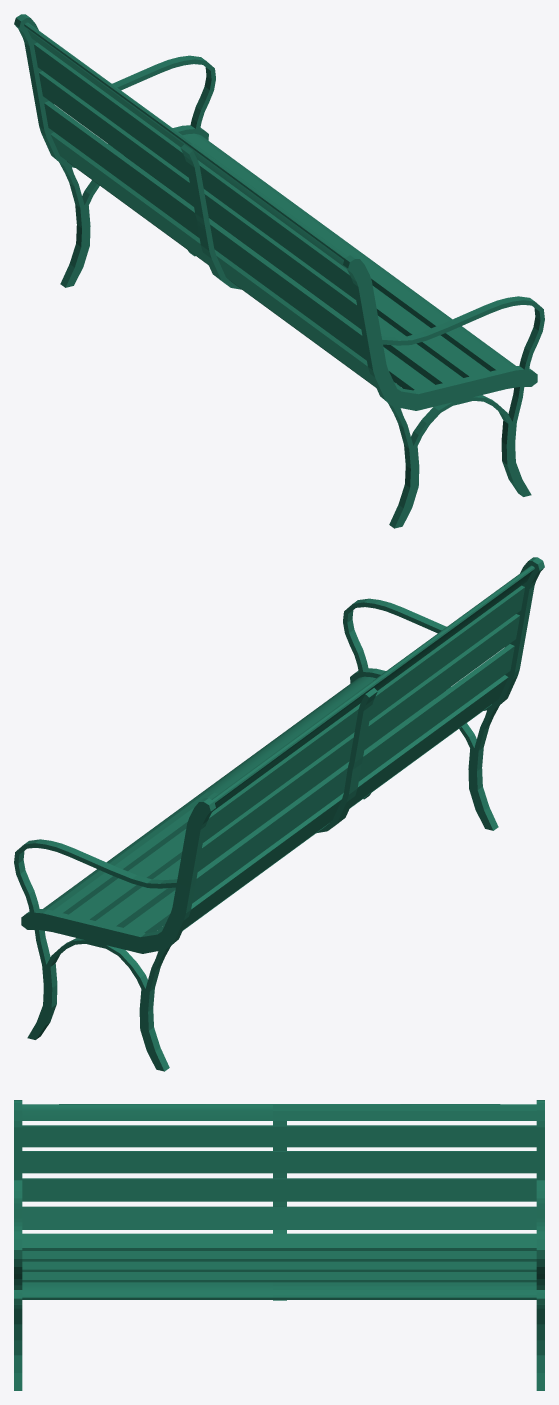
File: bench.FBX
The picture shows the model from 3 angles, top to bottom: view 1: azimuth 30°, elevation 25°; view 2: azimuth 150°, elevation 25°; view 3: azimuth 270°, elevation 25°; orthographic projection. The views are drawn at different scales.
Parts seen in each view (by area): view 1: Box028; view 2: Box028; view 3: Box028.
Part boxes in pixels (x1,y1,x2,y2): Box028: [14, 14, 544, 528]; Box028: [14, 557, 544, 1071]; Box028: [14, 1100, 544, 1390].
Size of the model in its own units: 7.58 by 10.27 by 22.27.
